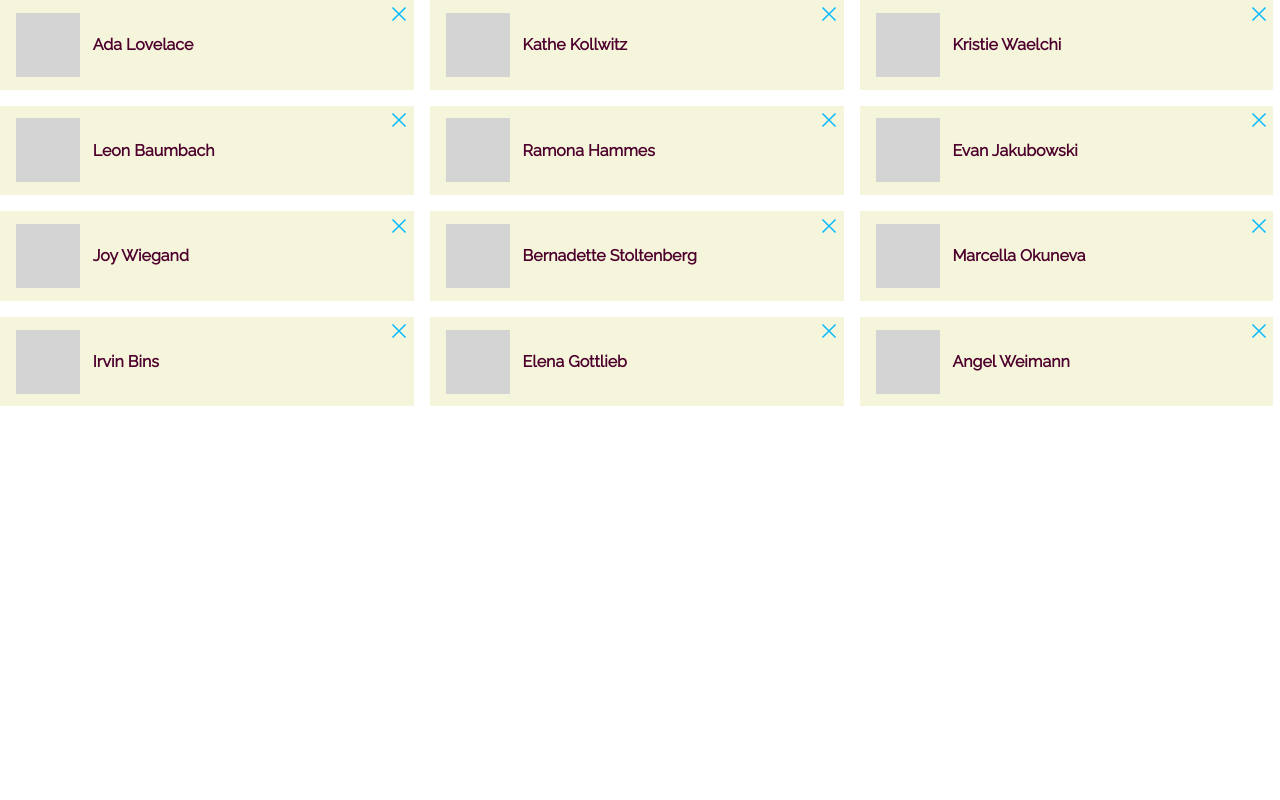
Scenario: Delete employee modal › clicking on the delete employee button shows the confirm delete modal
expect the heading "Ada Lovelace" is shown: met, box x1=93 y1=35 x2=193 y2=54
Click the 1st button named "Delete employee": {"x": 399, "y": 14} x1=391 y1=6 x2=407 y2=22
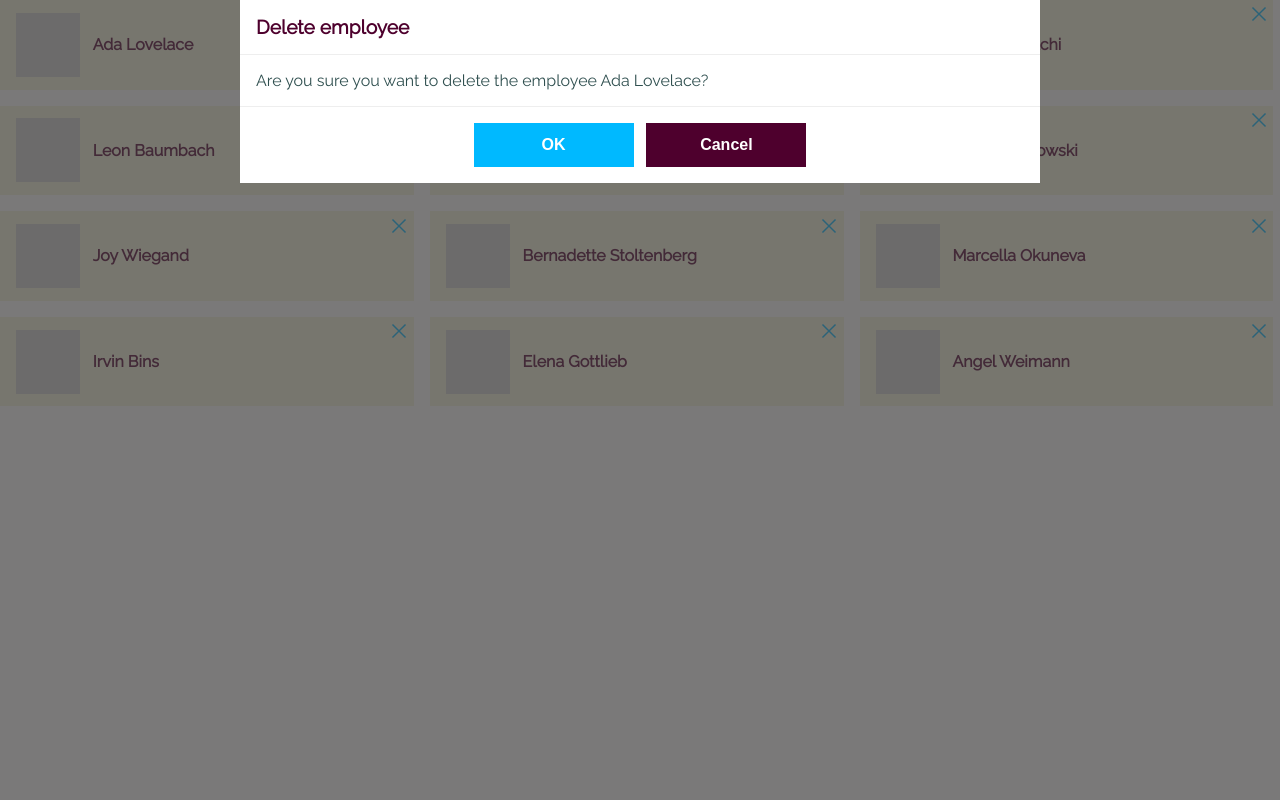
expect the text "Are you sure you want to delete the employee Ada Lovelace?" is shown: met, box x1=240 y1=54 x2=1040 y2=107
